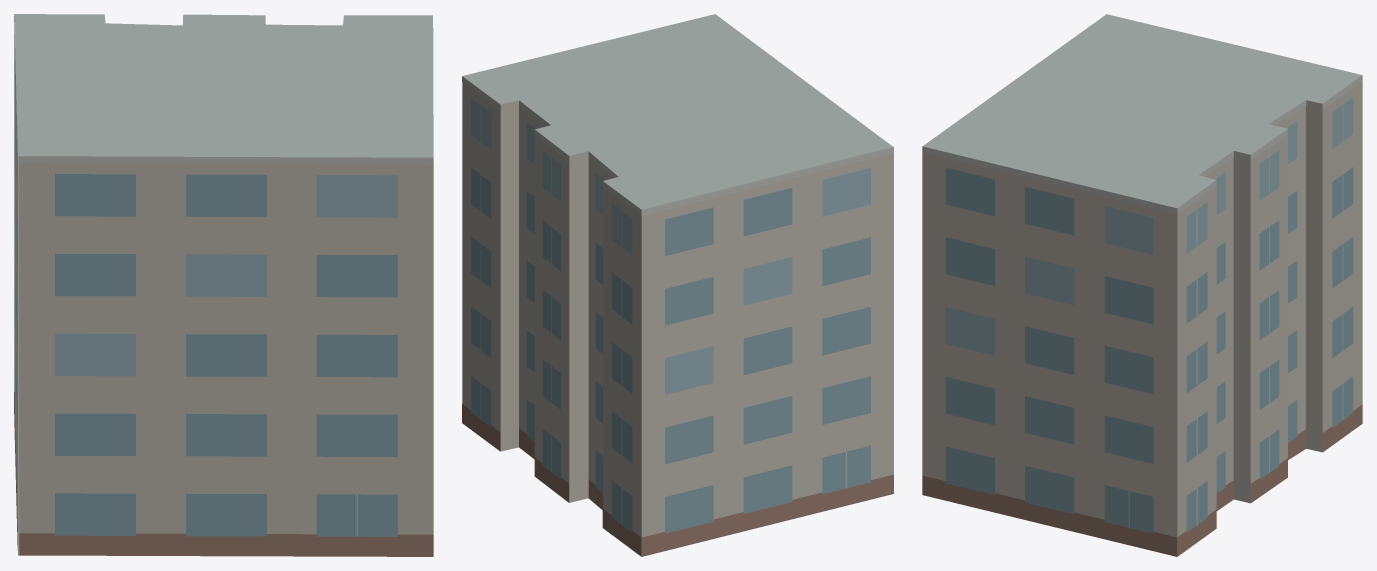
Rendered from survey-upis-32913722.glb.
3 views of the same model, side by side, from view 1: azimuth 30°, elevation 25°; view 2: azimuth 150°, elevation 25°; view 3: azimuth 270°, elevation 25° (orthographic). The views are drawn at different scales.
Visible parts, largest first — view 1: survey-upis-32913722.tmp; view 2: survey-upis-32913722.tmp; view 3: survey-upis-32913722.tmp.
Part boxes in pixels (box(x1,y1,x2,y2)): survey-upis-32913722.tmp: box(14, 14, 433, 556); survey-upis-32913722.tmp: box(462, 14, 893, 556); survey-upis-32913722.tmp: box(922, 14, 1362, 556).
Size of the model in its own units: 16.98 by 14.2 by 16.26.
